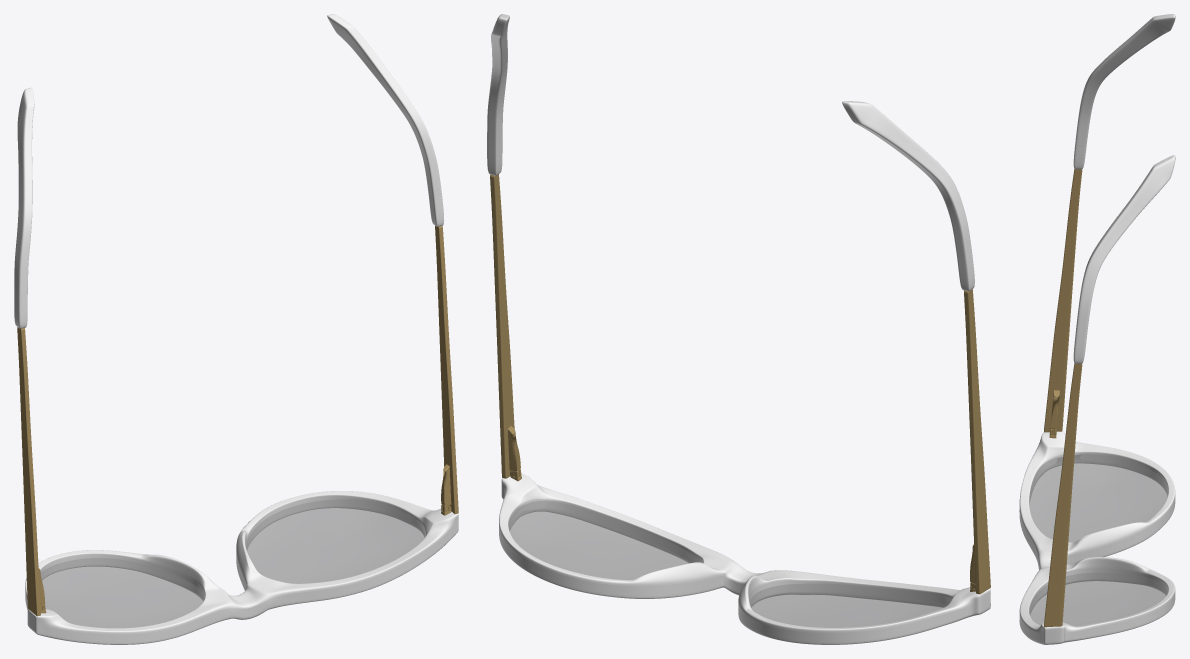
3 views of the same model, side by side, from view 1: azimuth 30°, elevation 25°; view 2: azimuth 150°, elevation 25°; view 3: azimuth 270°, elevation 25° (orthographic). The views are drawn at different scales.
Parts seen in each view (by area): view 1: Metal 01, Gem 02, Finger Sizes; view 2: Metal 01, Gem 02, Finger Sizes; view 3: Metal 01, Gem 02, Finger Sizes.
Part boxes in pixels (left/top/right/bottom): Metal 01: left=14, top=14, right=458, bottom=644; Gem 02: left=41, top=499, right=425, bottom=628; Finger Sizes: left=38, top=464, right=451, bottom=613; Metal 01: left=487, top=14, right=990, bottom=644; Gem 02: left=508, top=500, right=951, bottom=627; Finger Sizes: left=508, top=426, right=975, bottom=591; Metal 01: left=1019, top=14, right=1175, bottom=644; Gem 02: left=1029, top=454, right=1167, bottom=626; Finger Sizes: left=1049, top=390, right=1059, bottom=438.
Bounding box in the file's own units: 43.37 × 50.39 × 14.42.
